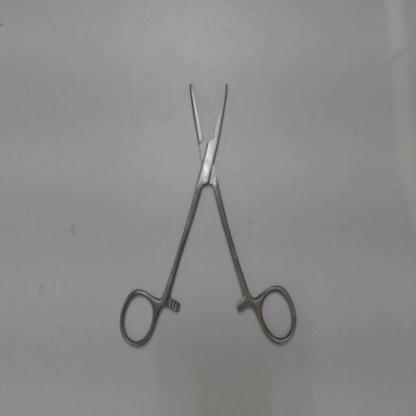Mayo Needle Holder: (116, 63, 305, 356)
